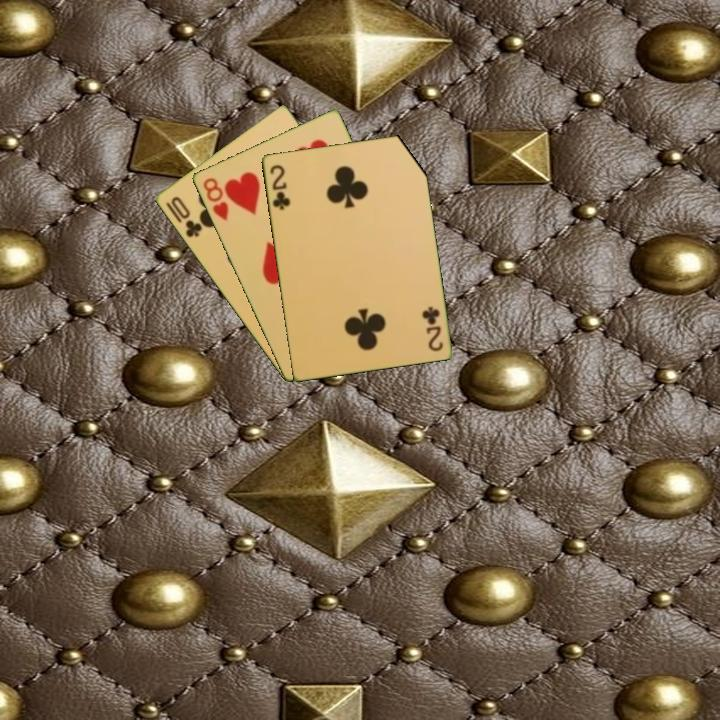10c: (167, 193, 205, 240)
2c: (266, 161, 293, 212), (419, 303, 446, 354)
8h: (199, 174, 231, 224)
